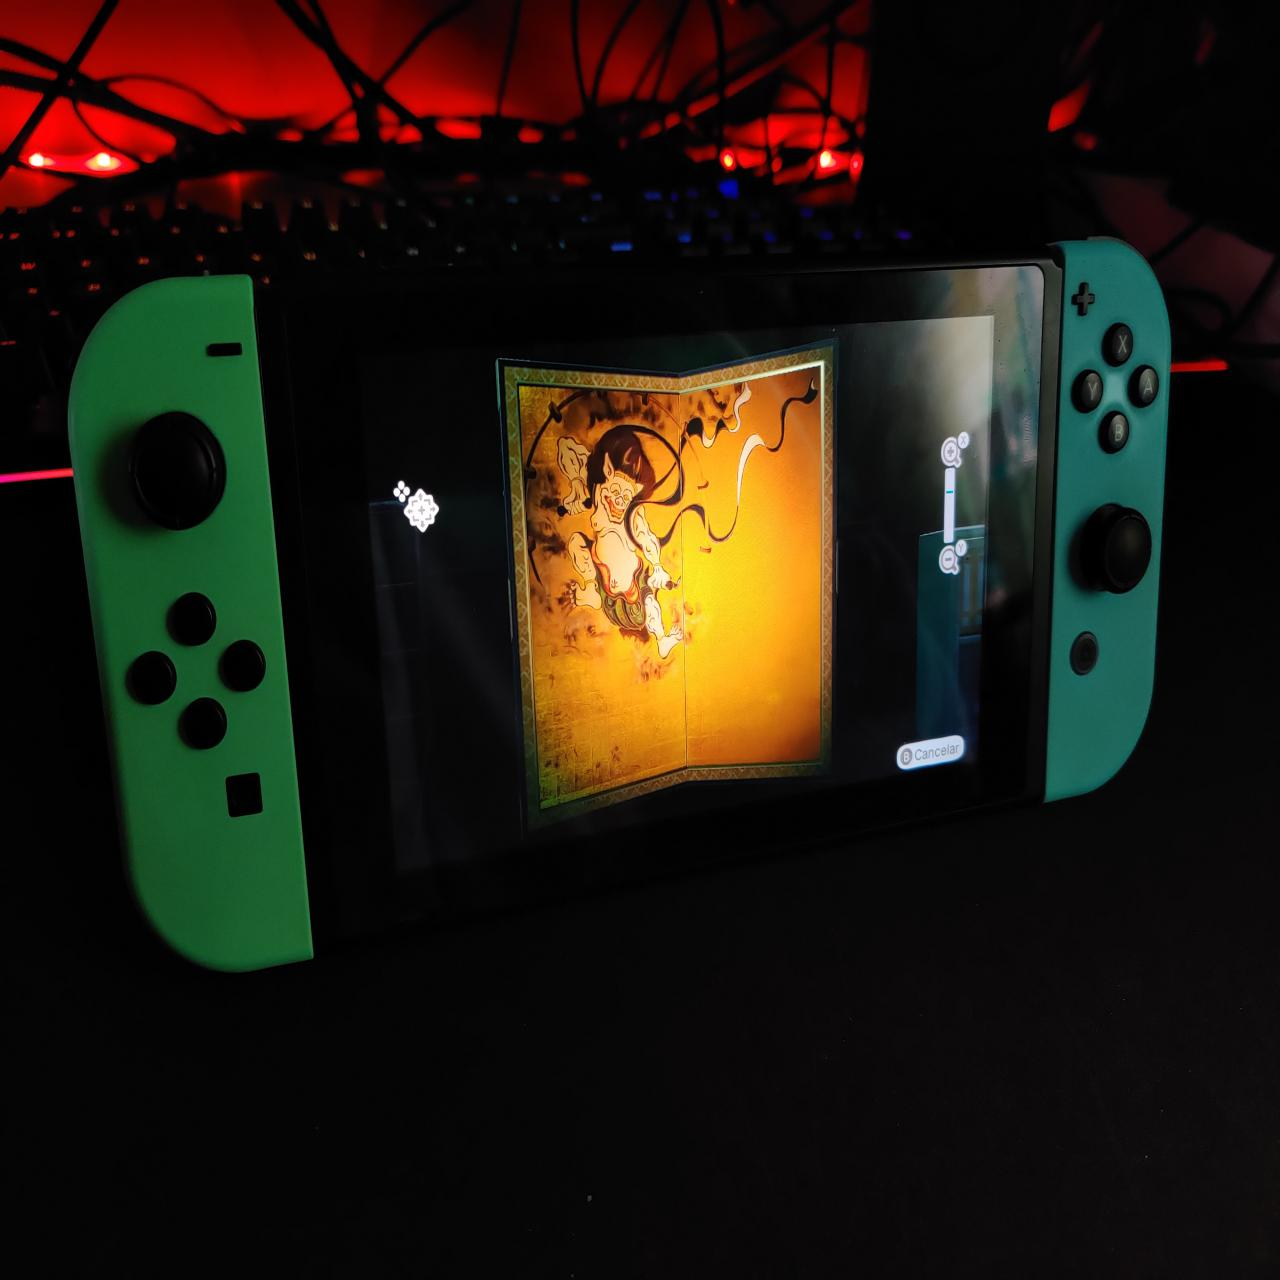Raijin: (509, 361, 840, 823)
